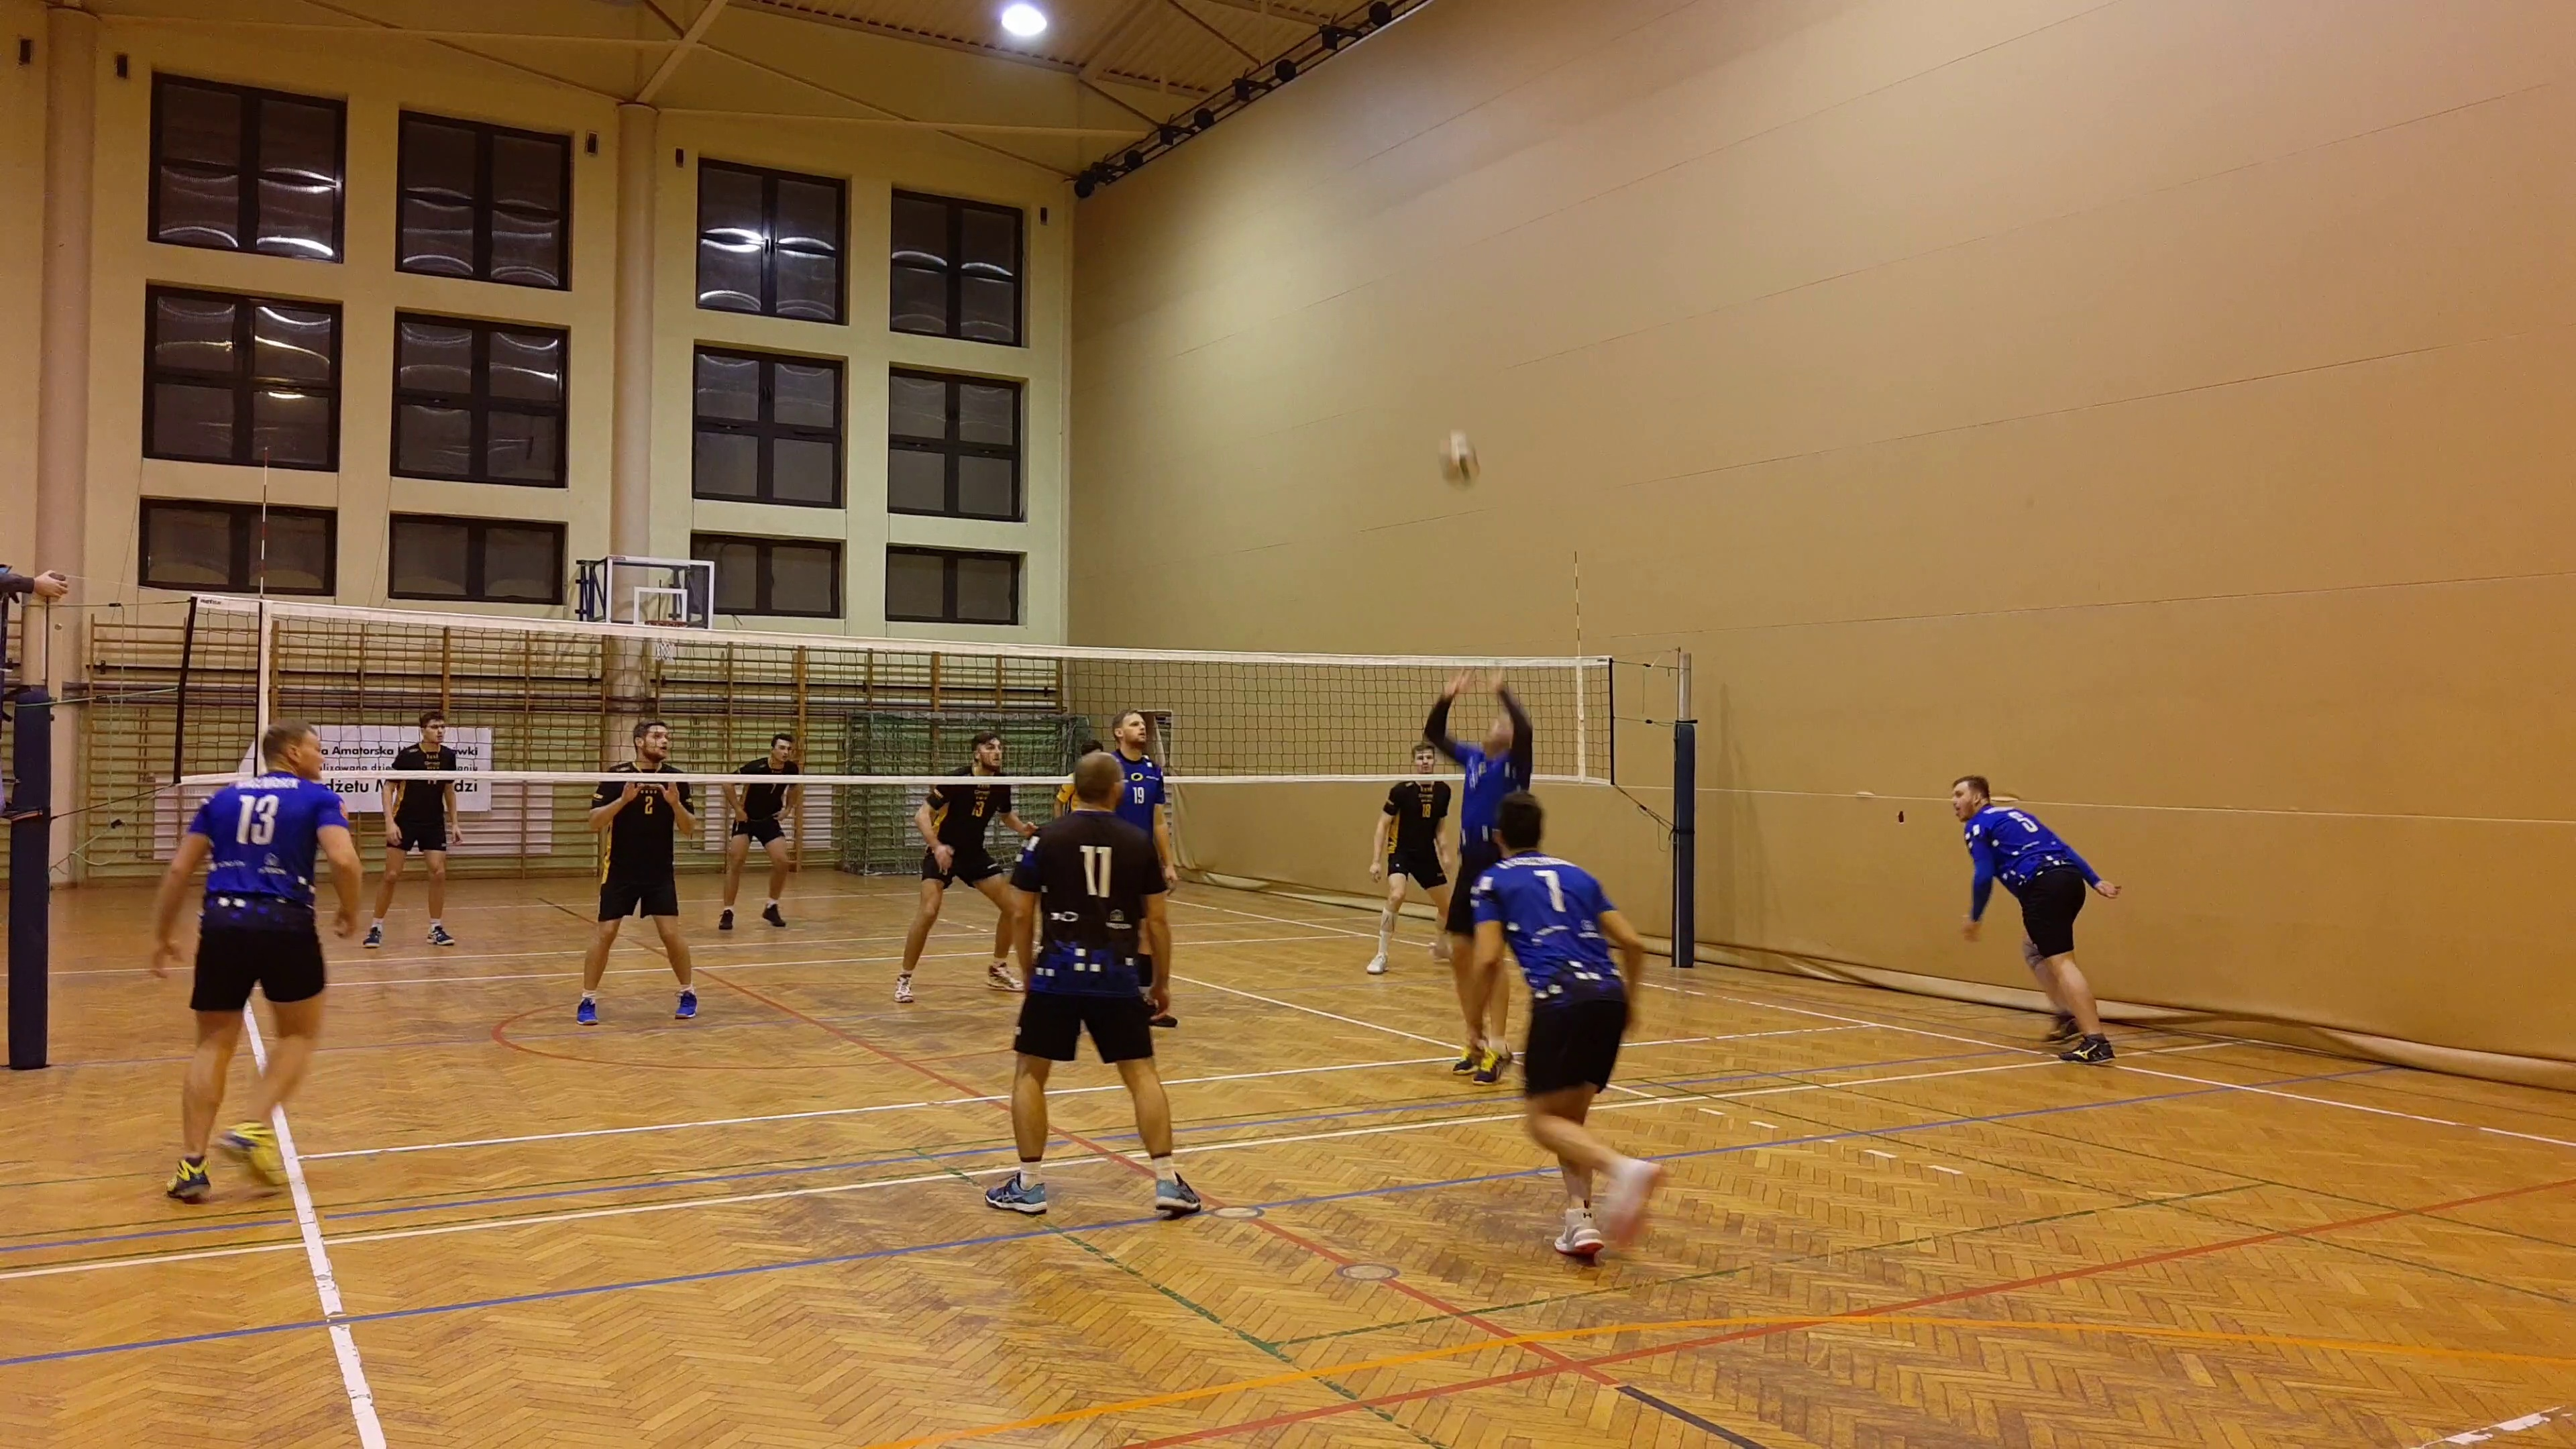ball: (1438, 446, 1483, 488)
